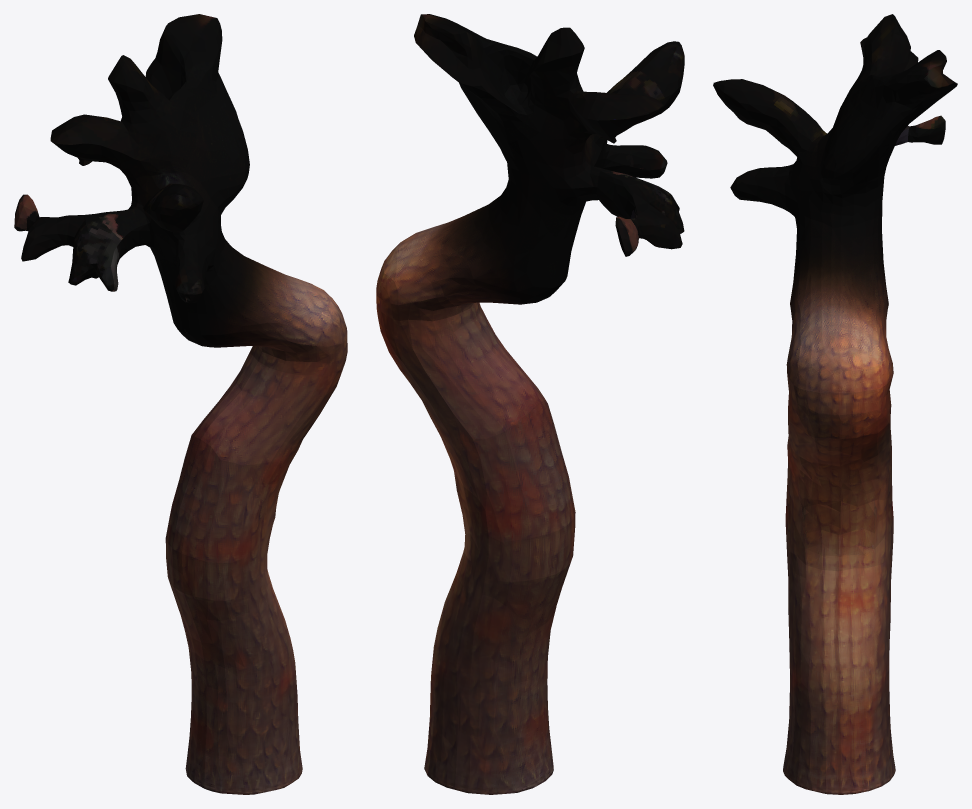
Rendered from veg_aleppo_pine__retry.glb.
The picture shows the model from 3 angles, left to right: view 1: azimuth 30°, elevation 25°; view 2: azimuth 150°, elevation 25°; view 3: azimuth 270°, elevation 25°; orthographic projection. The views are drawn at different scales.
Visible parts, largest first — view 1: world; view 2: world; view 3: world.
Boxes of the visible parts, <box> form: world: <box>14,14,347,794</box>; world: <box>376,14,684,794</box>; world: <box>713,14,957,794</box>.
Bounding box in the file's own units: 0.4305 × 1 × 0.3128.
1 material, 1 textured.
